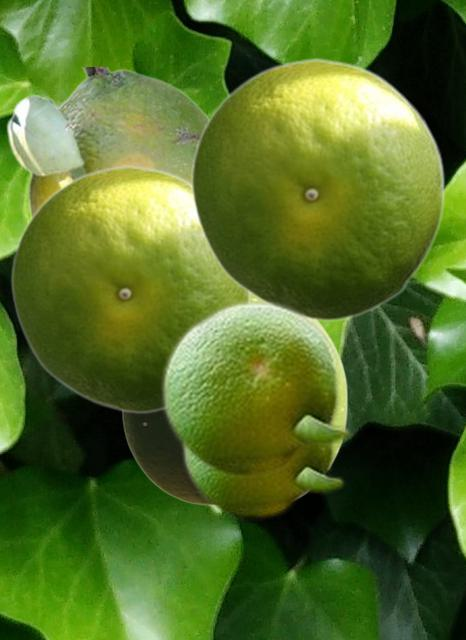dalandan: (190, 57, 444, 321), (10, 164, 250, 413), (121, 297, 347, 505), (159, 297, 352, 476), (5, 67, 208, 216), (180, 447, 345, 519)
